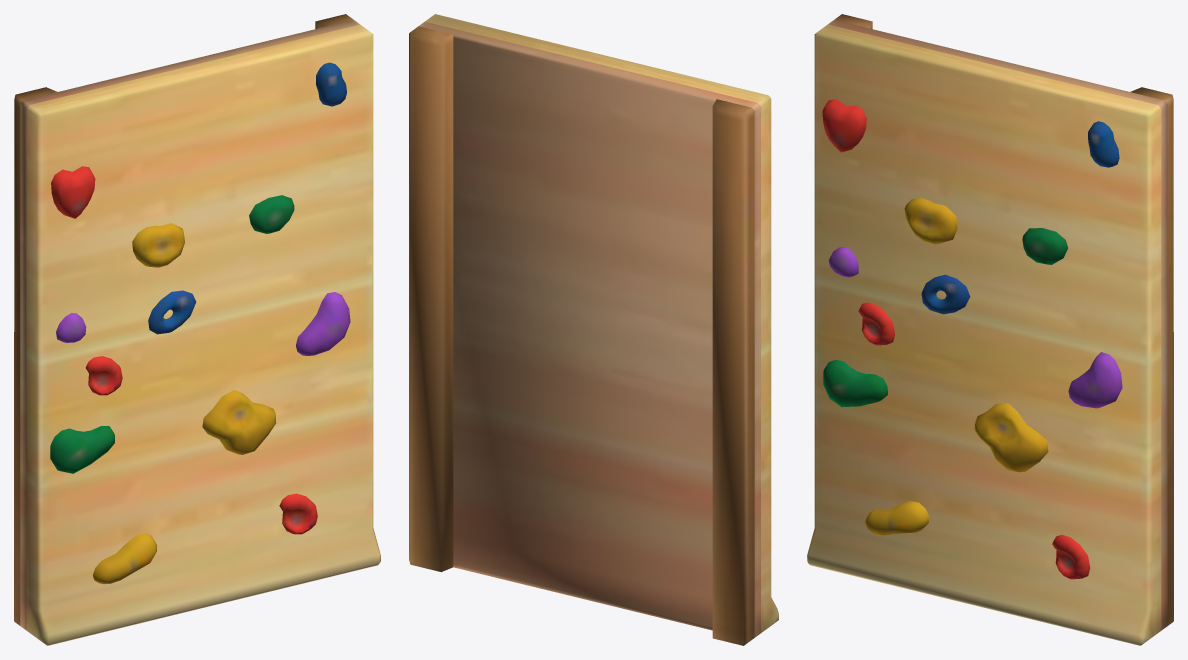
3 views of the same model, side by side, from view 1: azimuth 30°, elevation 25°; view 2: azimuth 150°, elevation 25°; view 3: azimuth 330°, elevation 25° (orthographic).
Bounding box in the file's own units: 20 × 30 × 3.64.
1 material, 1 textured.
